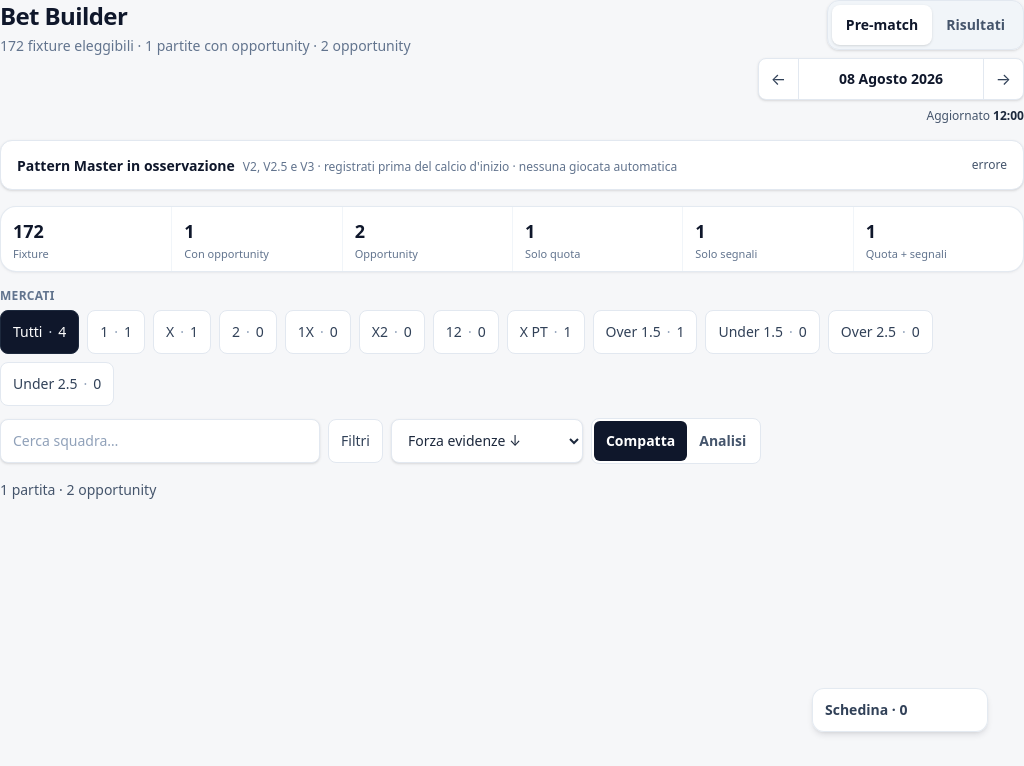
Test: BetBuilderPage › filtro origin restringe opportunity interne; signal-only visibile
This screenshot has width=1024, height=766.
Click the button with test id "bet-builder-filters-toggle". click: coordinates (356, 441)
box: [328,419,383,463]
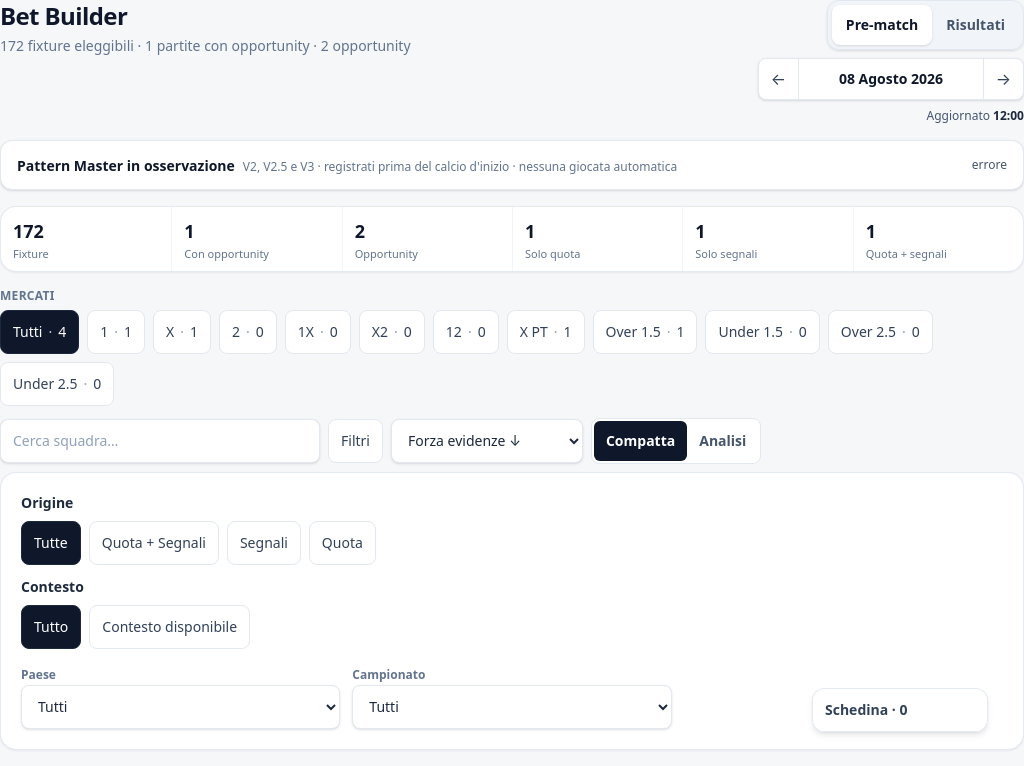
Click the button "Segnali". click: coordinates (264, 543)
box: [227,521,301,565]
(page scrolled)
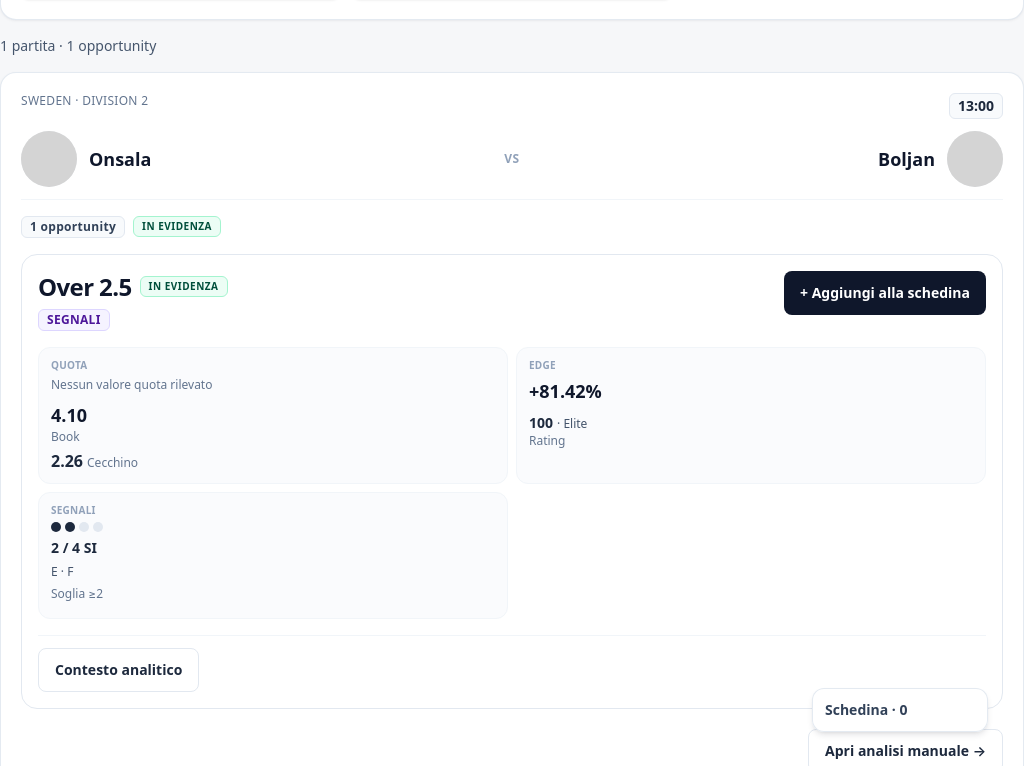
expect the text "Nessun valore quota rilevato" is shown: met, box [51,376,212,393]
